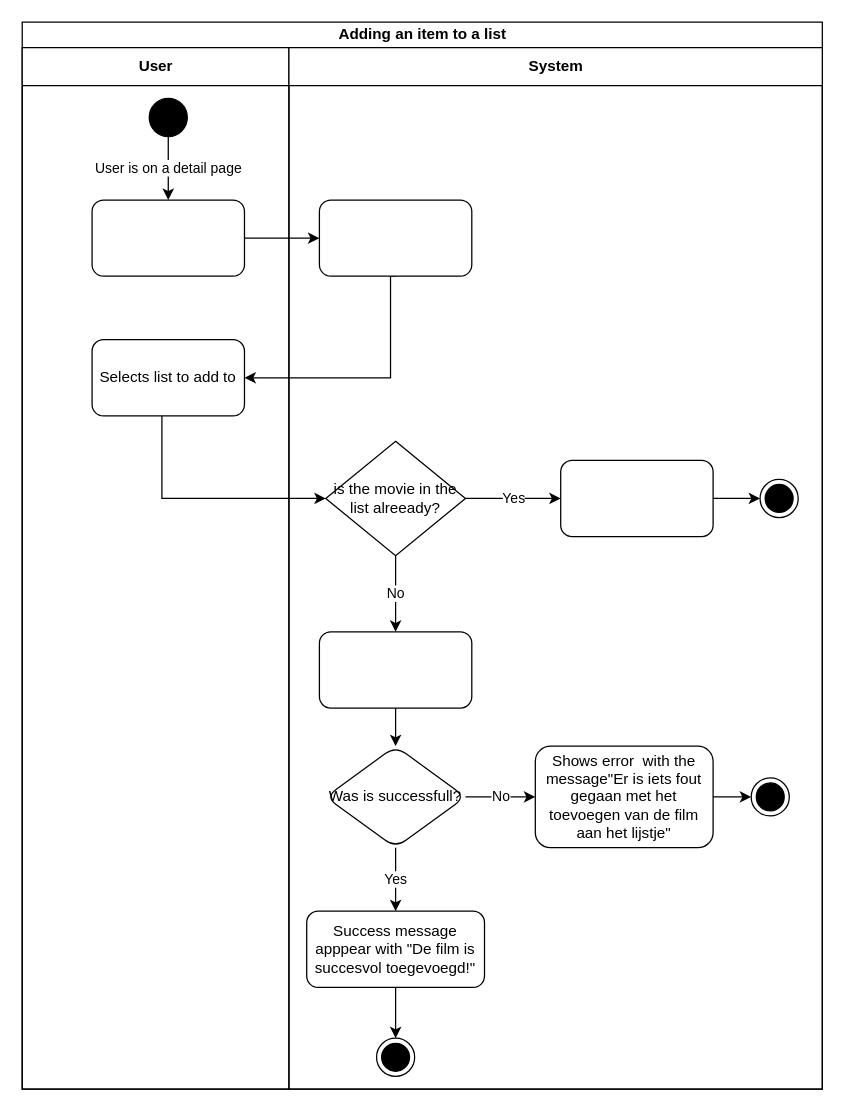
Some shapes in this 845 by 1111 pixel diagram are drawn without their labels. The shapes that lost their labels are listed below. From the top down, each one's centre as x and y in pixels, then its label:
point (167, 237): Clicks on button to add a movie to a list
point (395, 237): Opens pop up with overview of lists
point (636, 498): Shows error with the message "Deze film staat al in het geselecteerde lijstje"
point (395, 669): Saves movie to list in database
